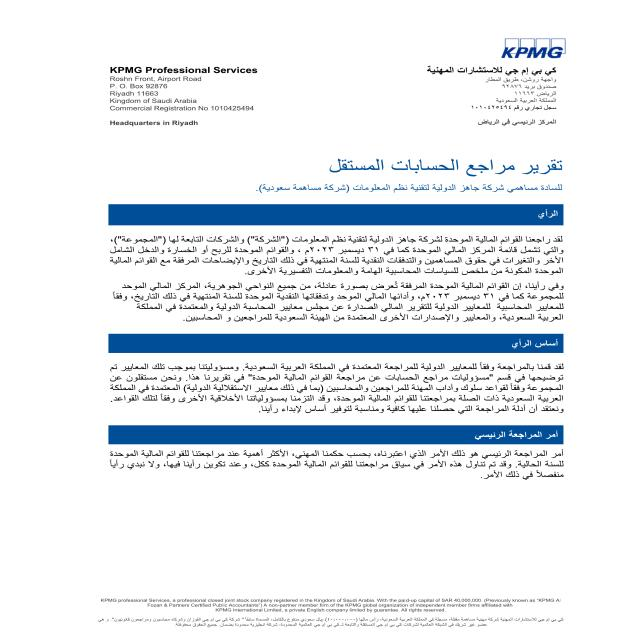auditor_report: (296, 156, 571, 181)
